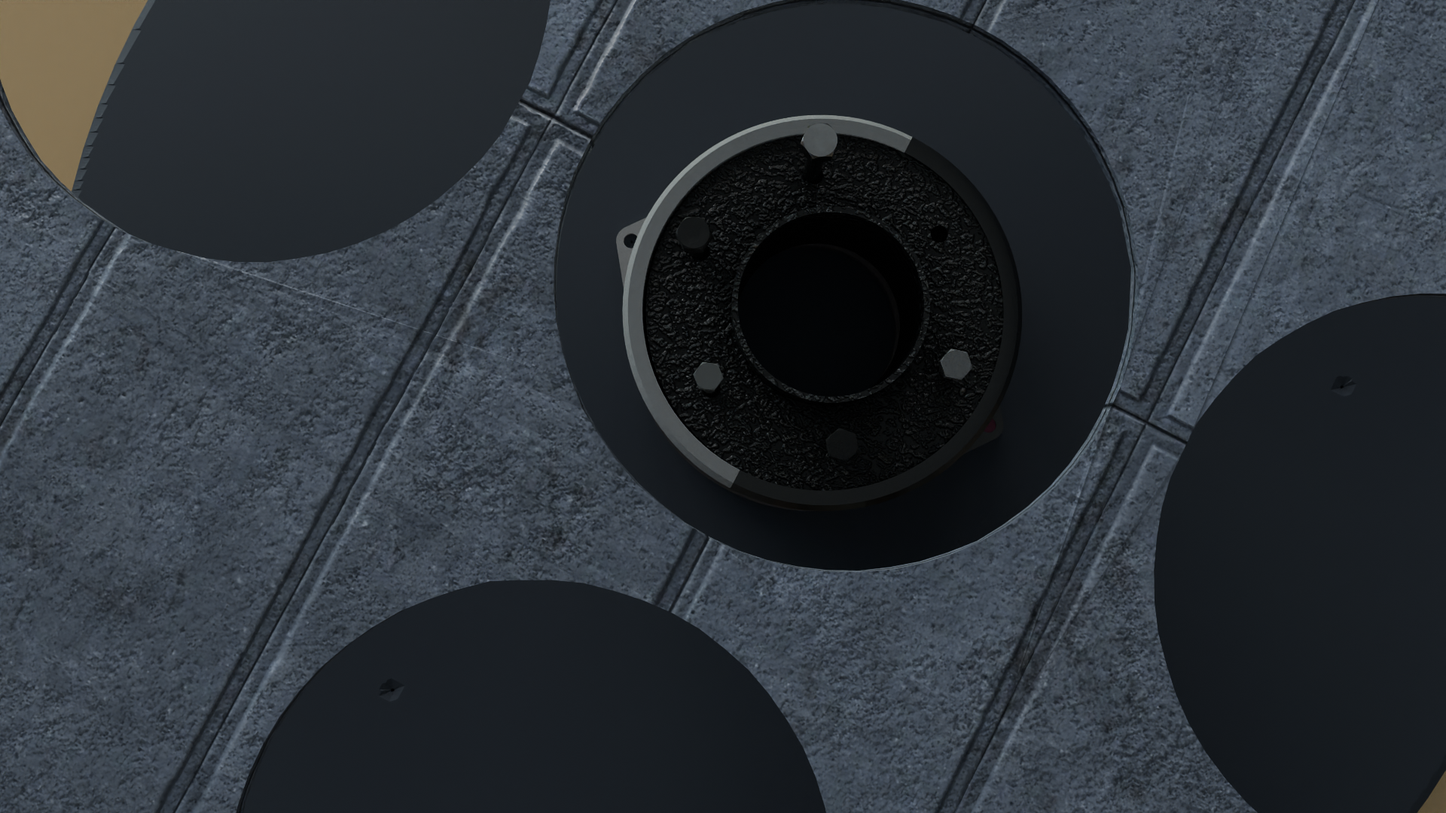bolt: (801, 123, 840, 159), (676, 217, 712, 250), (827, 428, 859, 461), (940, 349, 972, 380), (693, 362, 724, 390)
